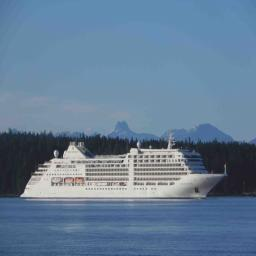cruises: (19, 127, 232, 205)
